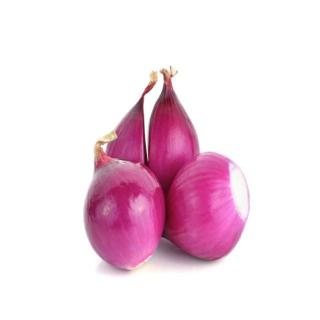Bawang Merah: (82, 134, 166, 274), (165, 150, 253, 264)
